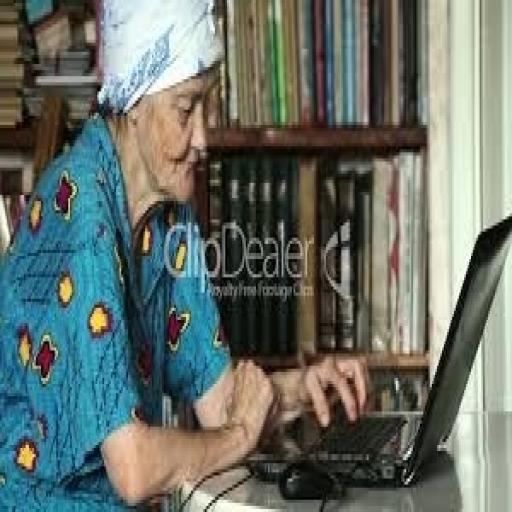using_laptop: (244, 207, 510, 488)
